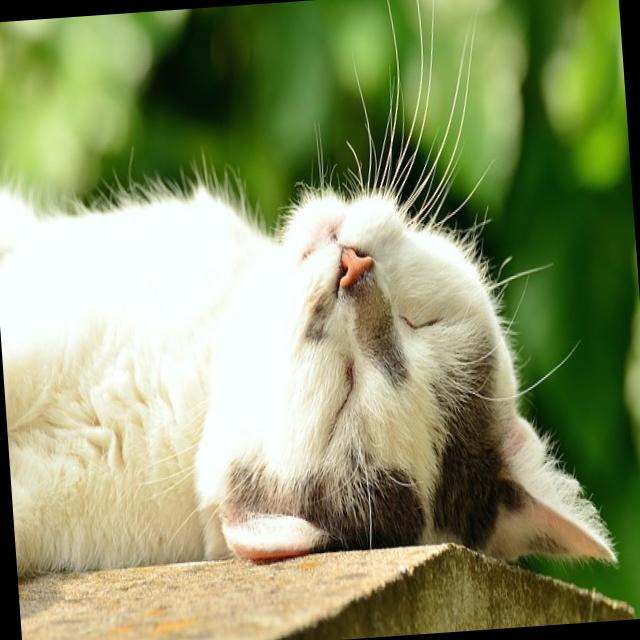cat: (0, 91, 580, 604)
